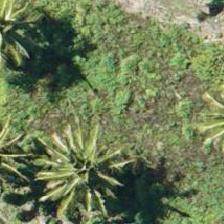coconut_tree: (40, 116, 130, 206)
